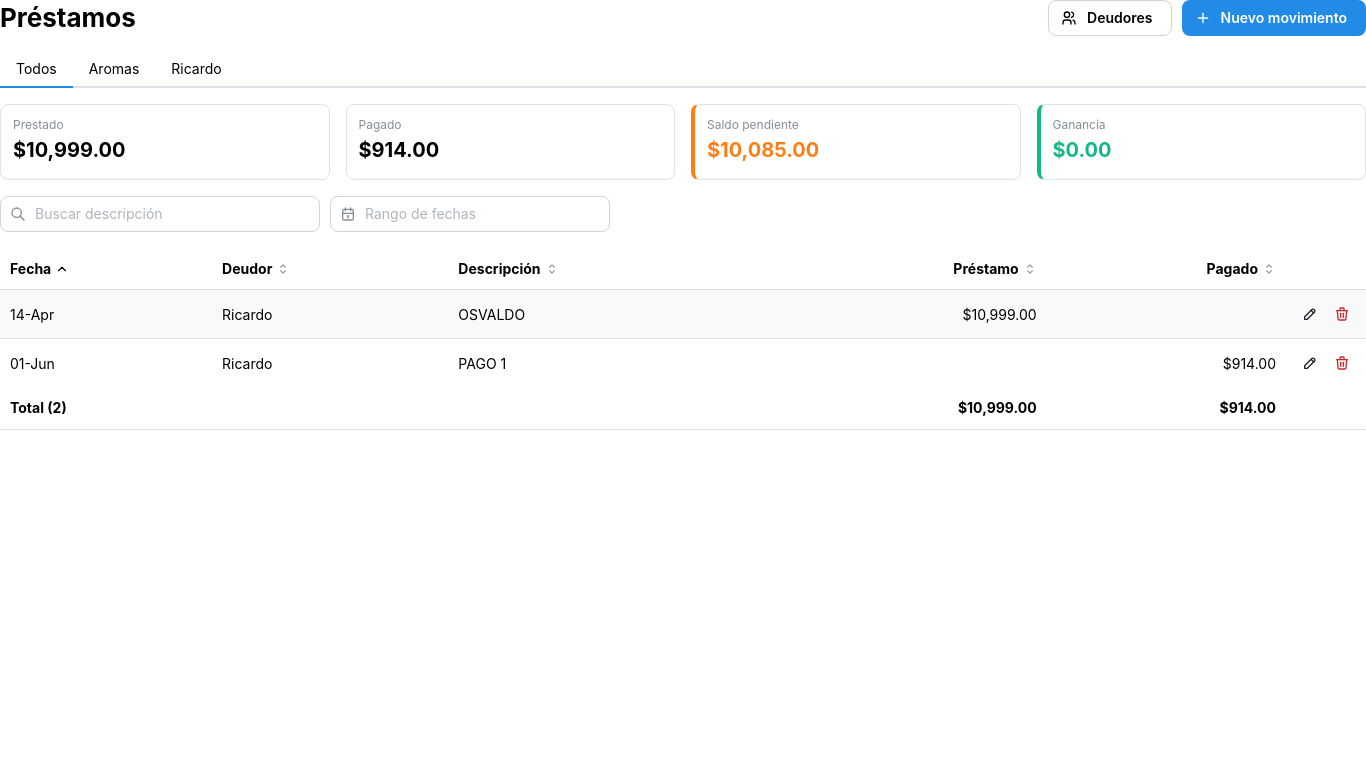
Scenario: pages render with data › LoansPage opens the entry form
Expected: the text "OSVALDO" is shown, [448, 290, 770, 339]
Click the button "Nuevo movimiento": (1274, 18) [1182, 0, 1365, 36]
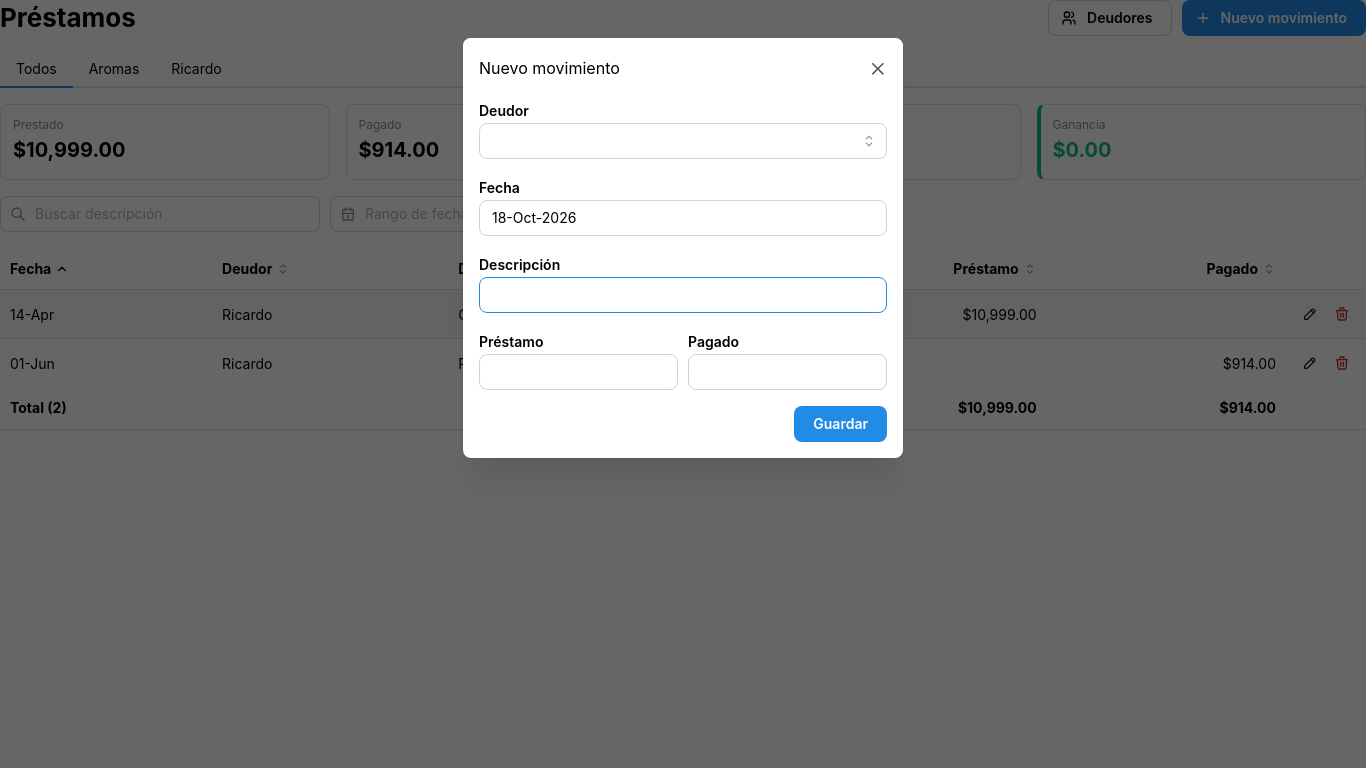
Expected: the field labelled "Préstamo" is shown, [479, 354, 678, 390]
Expected: the field labelled "Pagado" is shown, [688, 354, 887, 390]
